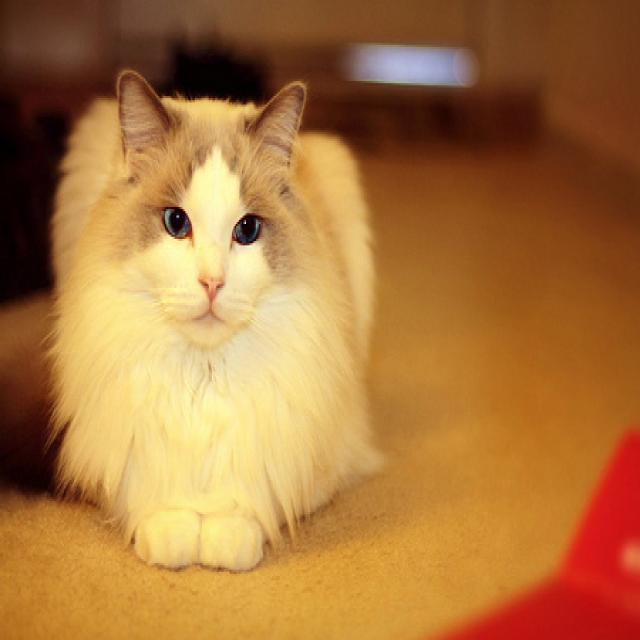Ragdoll: (48, 65, 380, 578)
